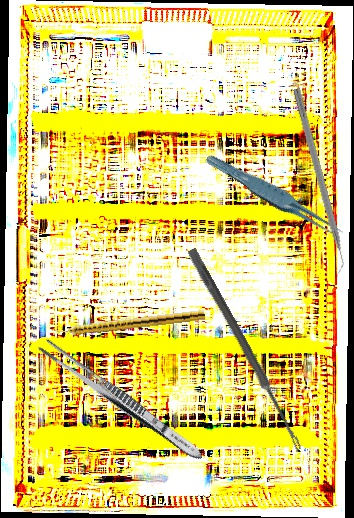Chopper: (282, 87, 350, 279)
Dressing Forceps: (35, 336, 208, 465)
Handpiece: (52, 306, 206, 339)
Surgical Spoon: (185, 247, 306, 452)
Tissue Forceps: (204, 143, 347, 251)
